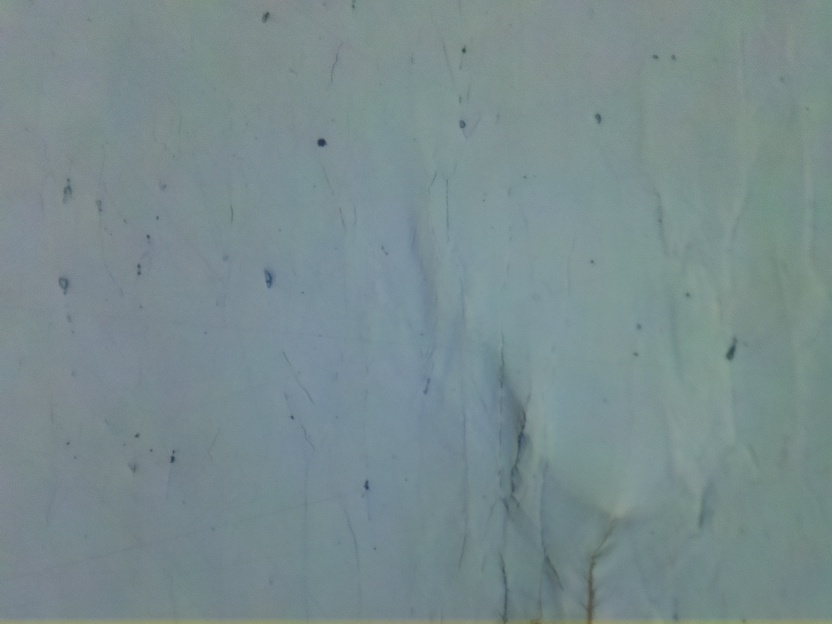crack: (492, 553, 520, 624), (581, 556, 610, 624)
